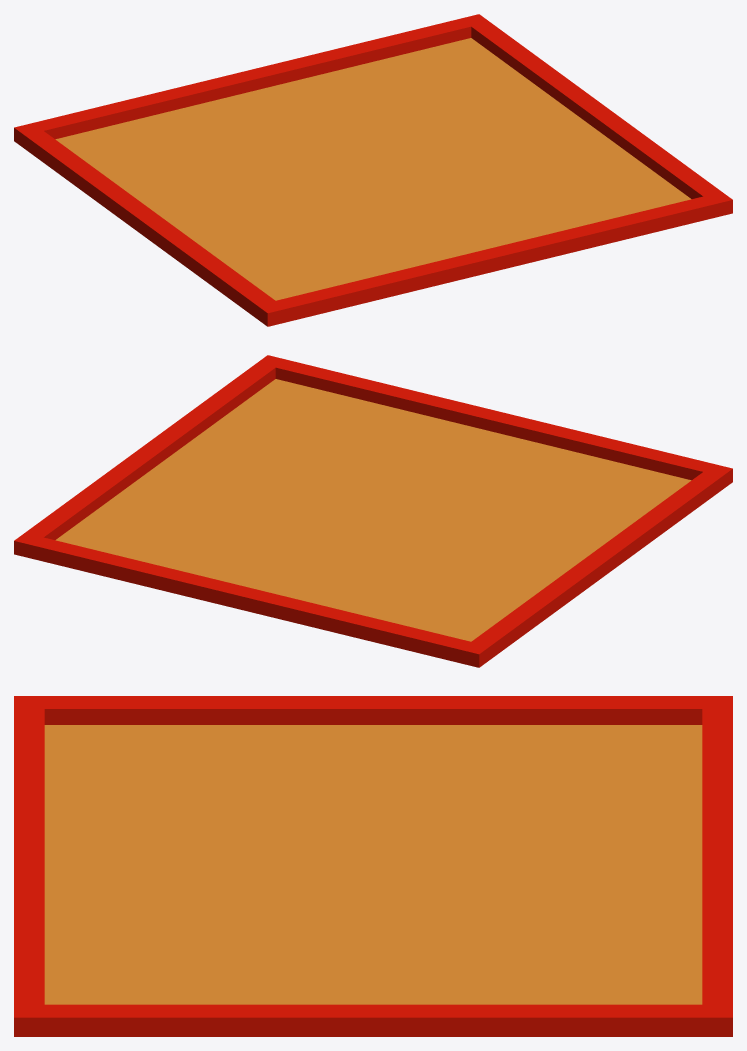
File: sand_pit1.0.fbx
3 renders of one model, top to bottom at view 1: azimuth 30°, elevation 25°; view 2: azimuth 150°, elevation 25°; view 3: azimuth 270°, elevation 25°, orthographic. The views are drawn at different scales.
Visible parts, largest first — view 1: Plane, Cube left, Cube right, Cube back, Cube front; view 2: Plane, Cube right, Cube left, Cube back, Cube front; view 3: Plane, Cube front, Cube back, Cube right, Cube left.
Boxes of the visible parts, x1,y1,x2,y2 form: Plane: (55,38,691,300); Cube left: (274,196,726,325); Cube right: (21,15,483,139); Cube back: (14,126,286,326); Cube front: (471,14,732,214); Plane: (55,379,691,641); Cube right: (20,534,483,666); Cube left: (275,359,713,480); Cube back: (471,464,732,667); Cube front: (14,355,285,555); Plane: (44,725,702,1004); Cube front: (14,1004,732,1036); Cube back: (14,696,732,724); Cube right: (702,700,732,1013); Cube left: (14,709,44,1004).
Size of the model in its own units: 2152 by 60 by 2033.
